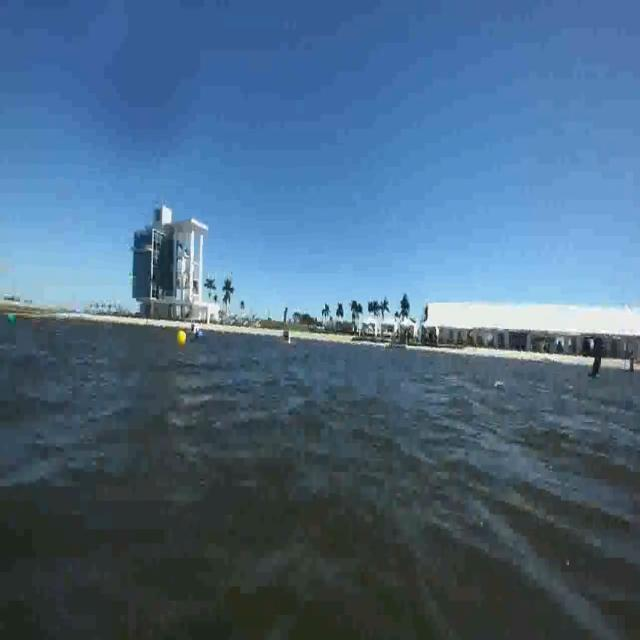blue-buoy: (195, 328, 202, 339)
green-buoy: (8, 314, 16, 324)
yellow-buoy: (177, 330, 187, 348)
